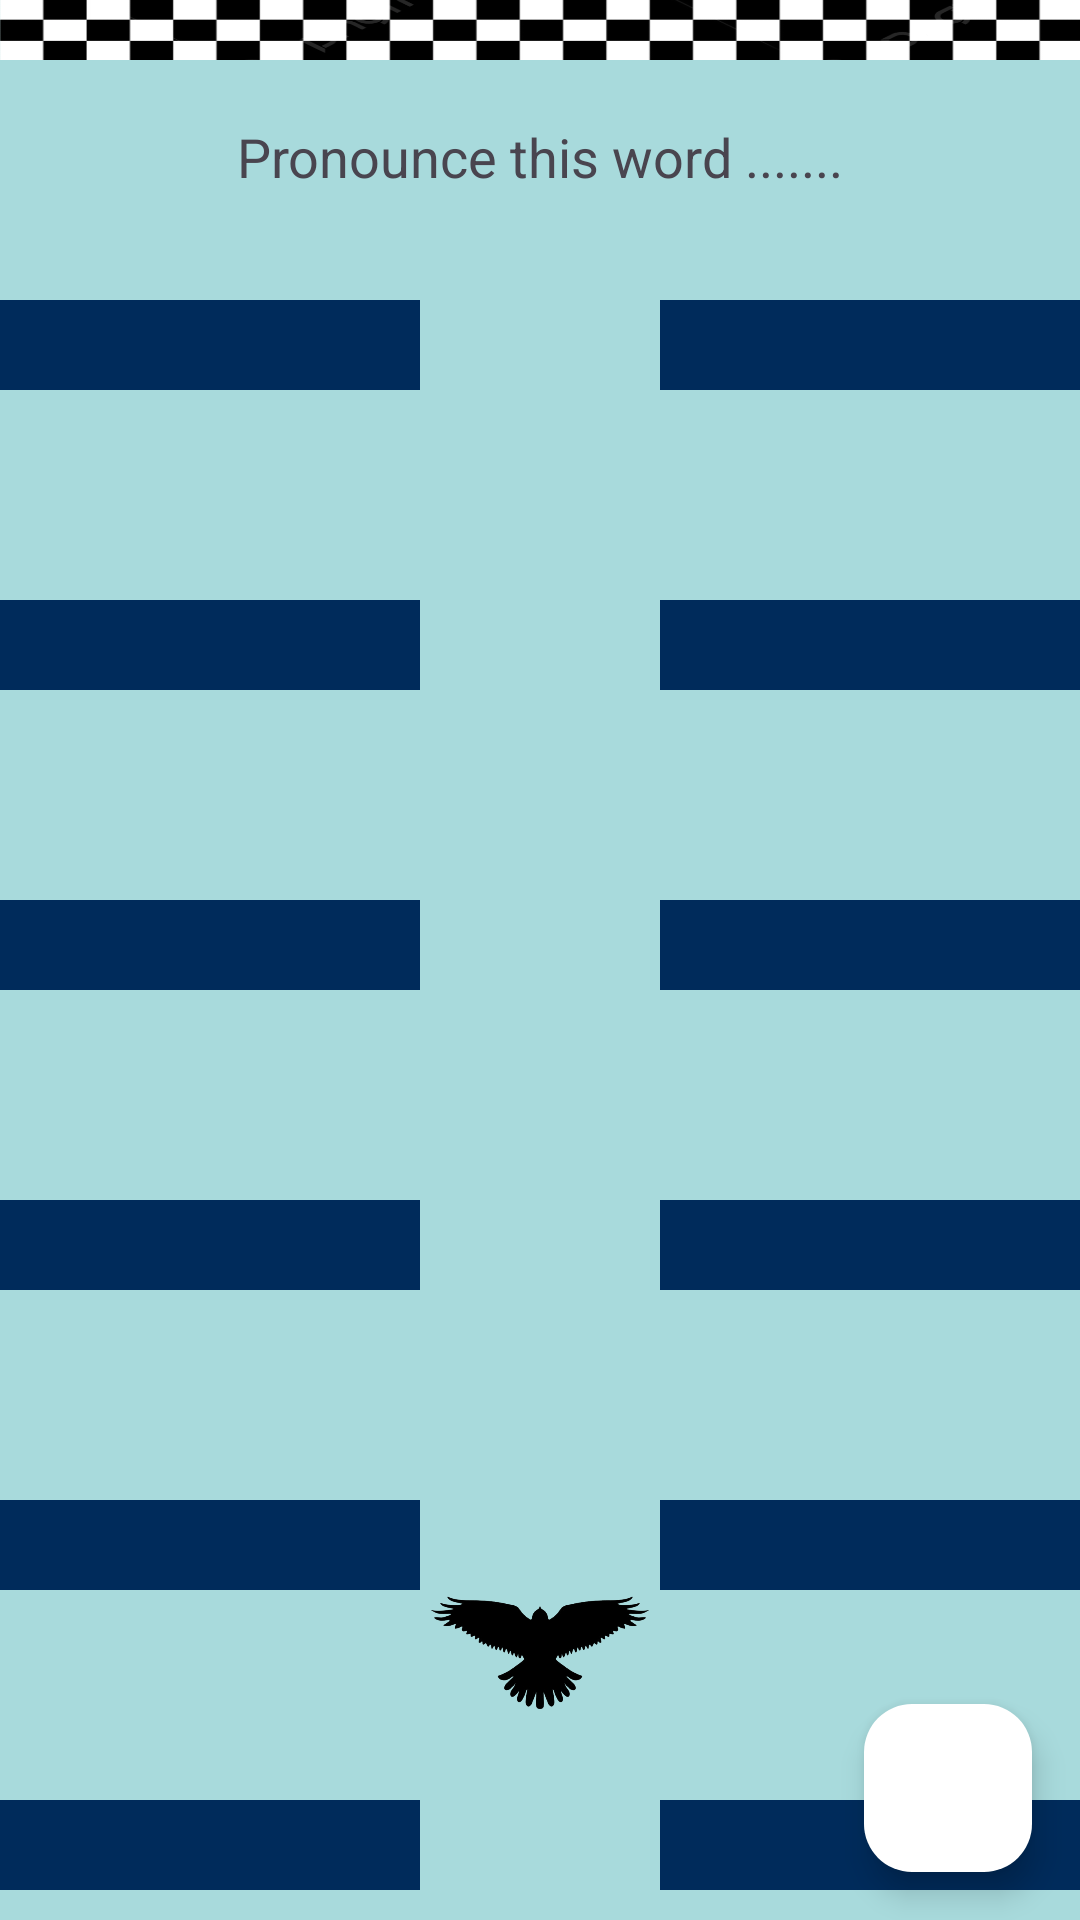

Named icons in this screenshot (1080 × 1920) and their bounding boxes, [x1=x1, y1=y1, x2=x2, y2=y2]:
Bird: [x1=431, y1=1597, x2=649, y2=1709]
